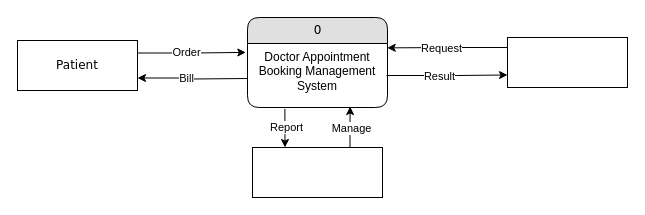
The diagram is 645 pixels wide and 215 high, and some of its shapes have lost their labels. The centre of each missing label's shape, as x and y in pixels:
Administrator: (x=317, y=172)
Doctor: (x=567, y=62)
